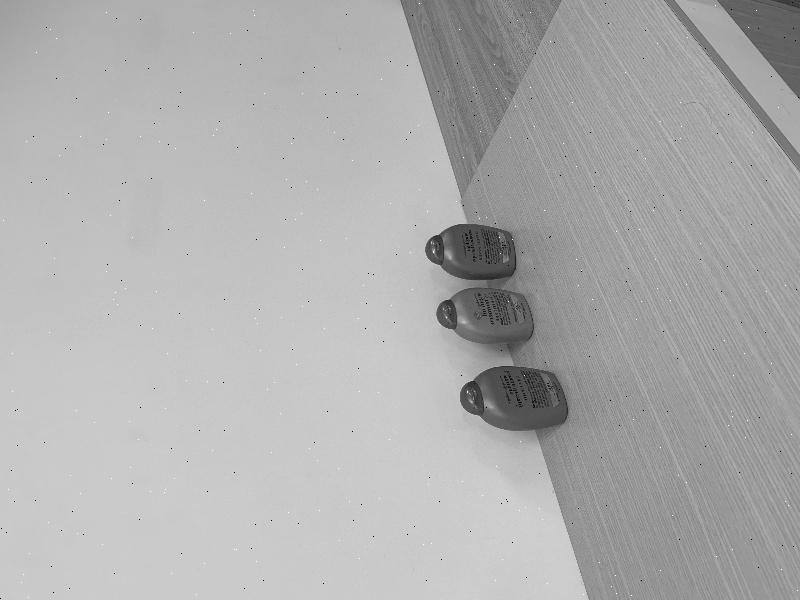ArganOilOfMorocco_Conditioner: (437, 288, 533, 343)
BrazilianKeratinTherapy_Shampoo: (460, 366, 569, 431)
BrazilianKerationTherapy_Conditioner: (425, 224, 515, 280)
